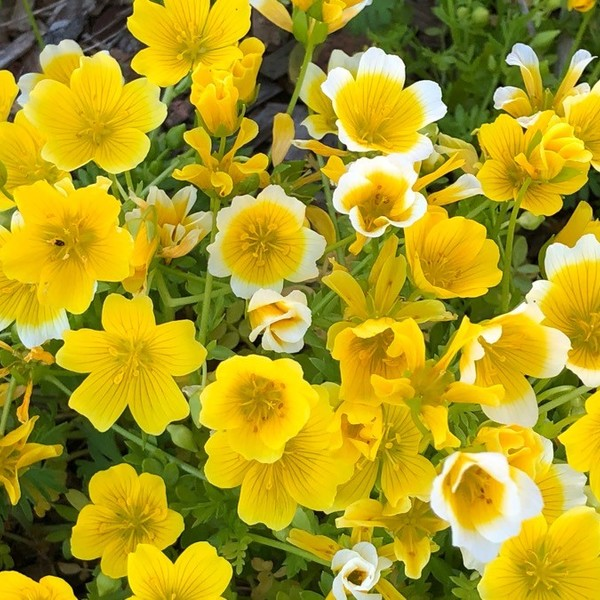obstacle: (44, 77, 563, 554)
